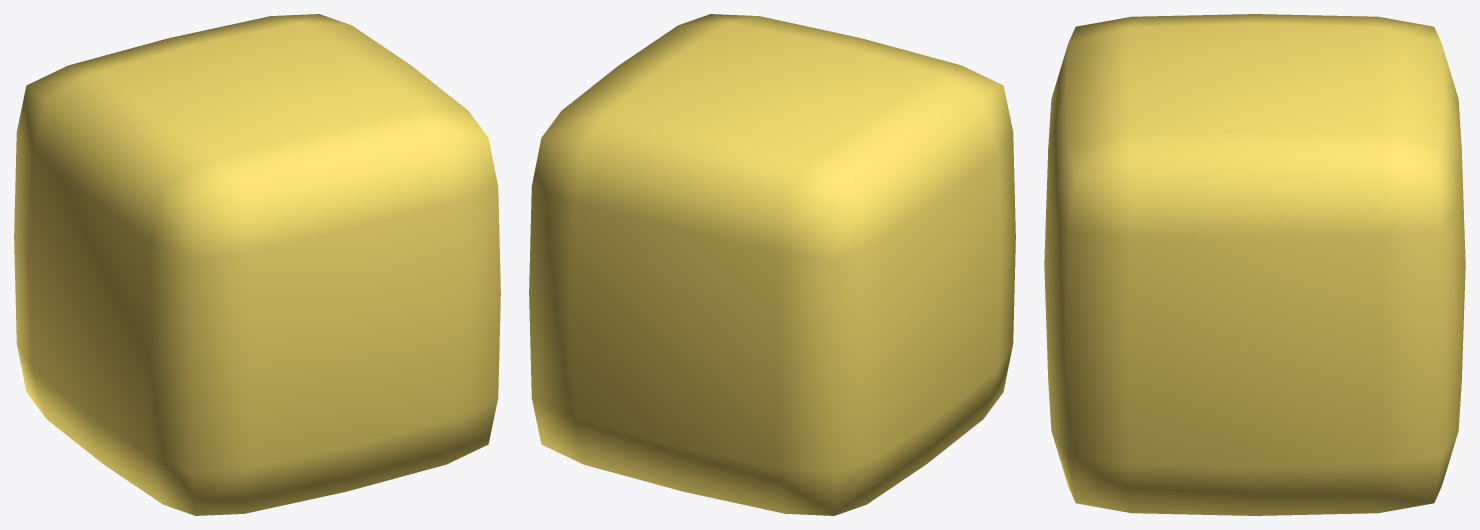
Rendered from cuboid.glb.
3 renders of one model, left to right at view 1: azimuth 30°, elevation 25°; view 2: azimuth 150°, elevation 25°; view 3: azimuth 270°, elevation 25°, orthographic. The views are drawn at different scales.
Visible parts, largest first — view 1: cuboid; view 2: cuboid; view 3: cuboid.
Part boxes in pixels (left/top/right/bottom): cuboid: left=14, top=14, right=500, bottom=515; cuboid: left=529, top=14, right=1015, bottom=515; cuboid: left=1044, top=14, right=1465, bottom=515.
Bounding box in the file's own units: 0.5934 × 0.5934 × 0.5934.
